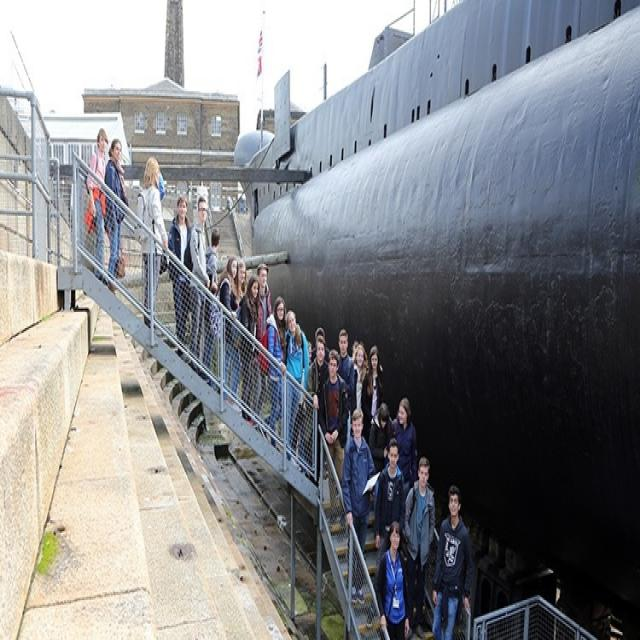body: (339, 406, 376, 606), (430, 484, 472, 638), (316, 348, 350, 534), (403, 454, 435, 636), (373, 437, 406, 597), (139, 156, 169, 330), (209, 253, 241, 402), (258, 293, 288, 445), (187, 193, 212, 370), (376, 518, 412, 638), (167, 192, 194, 350), (102, 134, 129, 292), (85, 125, 110, 285), (282, 307, 309, 448), (306, 334, 331, 484), (237, 274, 260, 422), (200, 226, 222, 380), (306, 332, 331, 454), (335, 328, 357, 458), (389, 395, 419, 490), (360, 344, 385, 448), (255, 260, 273, 402), (349, 342, 372, 447), (368, 402, 395, 476), (233, 261, 247, 294), (306, 341, 314, 365), (351, 339, 356, 360)
